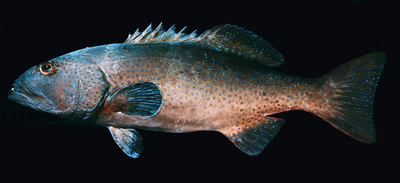fish: (8, 21, 387, 160)
